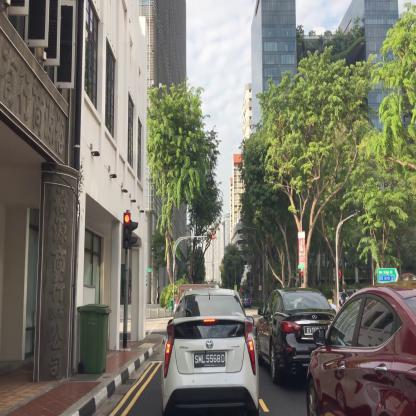red_traffic_light: (123, 213, 130, 247), (207, 234, 214, 239)
